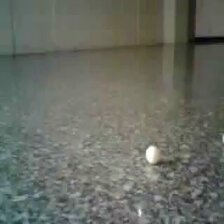w: (145, 145, 160, 164)
